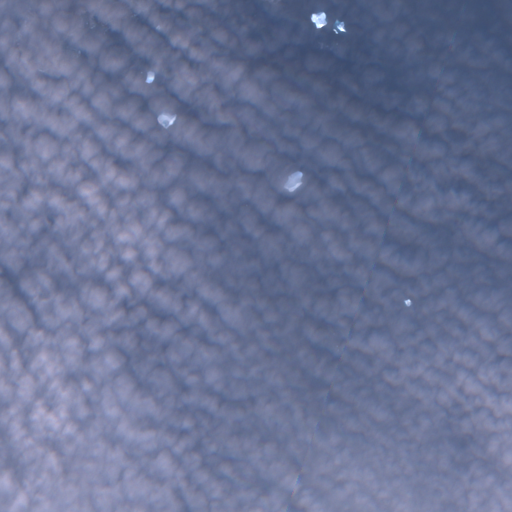Iceberg: (284, 171, 302, 191), (156, 112, 176, 128), (310, 11, 327, 28), (333, 19, 345, 33), (145, 71, 155, 82), (404, 299, 411, 306)
